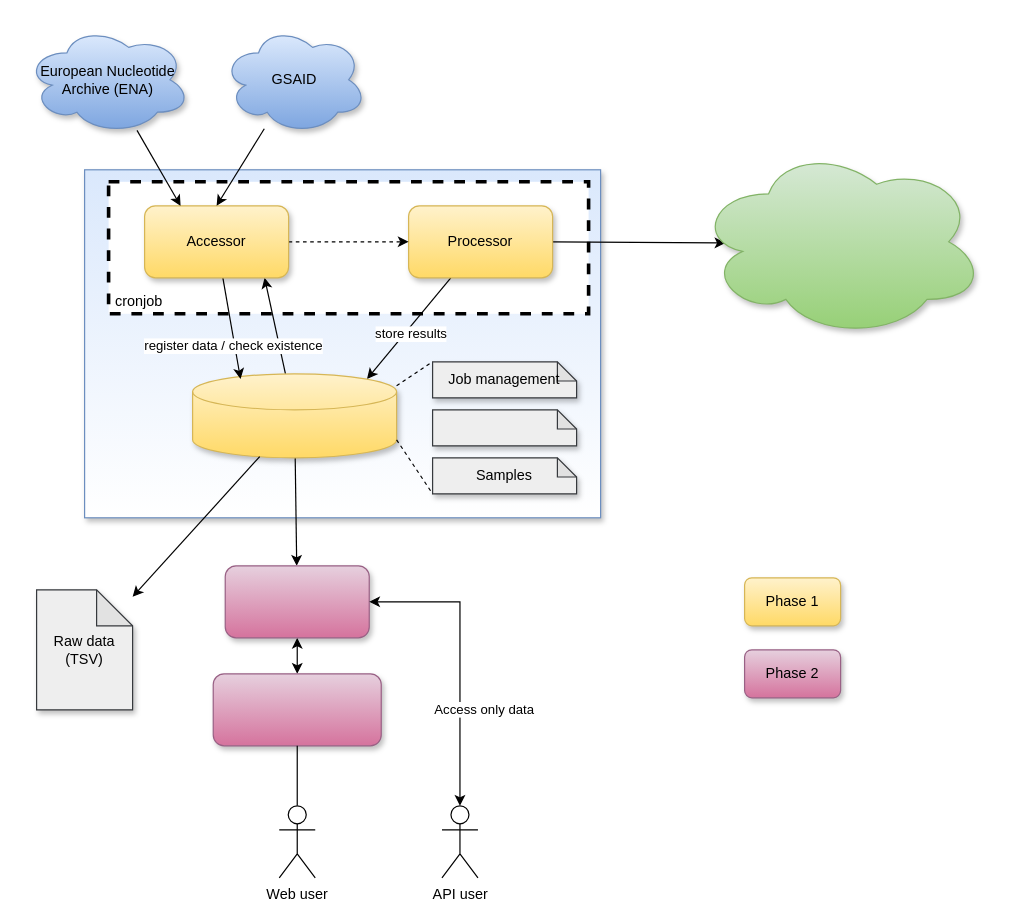
Image size: 1013x924. Some labels were removed from this diagram. Each missing label, with the centre of its shape:
"API" goes at point 297,603.
"HPC cluster (slurm)" goes at point 841,243.
"Presentation (HTML + visualization)" goes at point 297,711.
"SQL database (postgres)" goes at point 295,417.
"Variants" goes at point 505,429.
